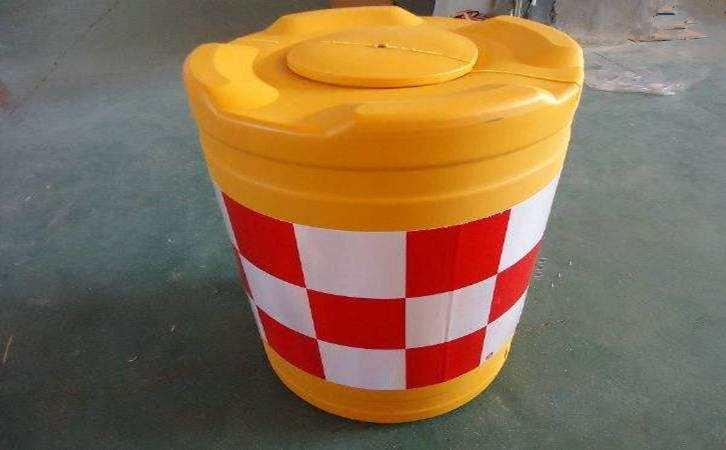sign: (190, 1, 583, 432)
